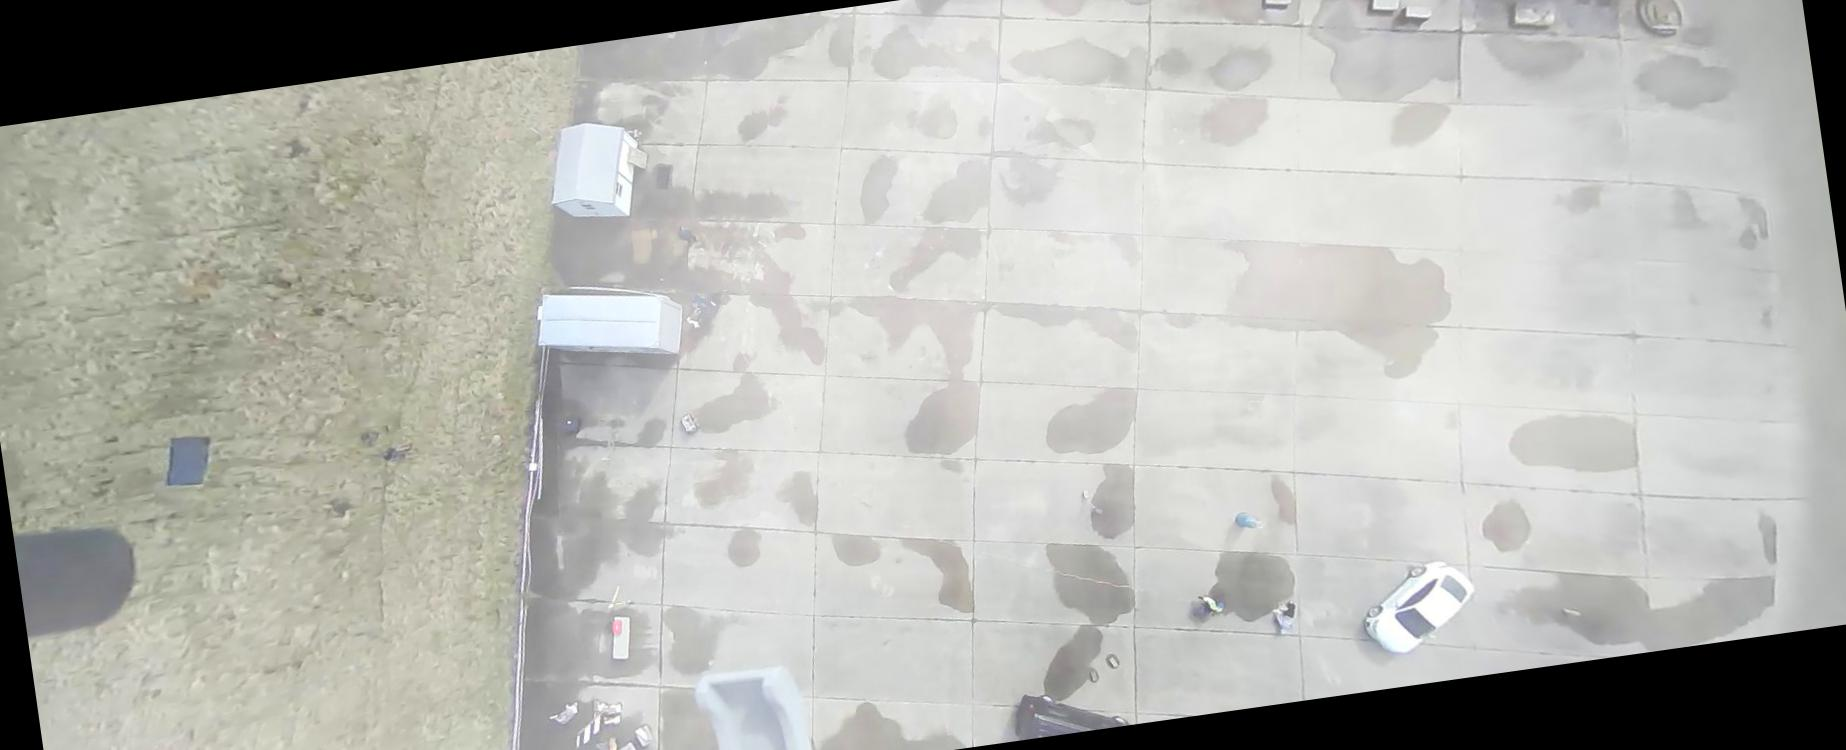vehicle: (1356, 555, 1484, 658), (1010, 679, 1131, 740)
